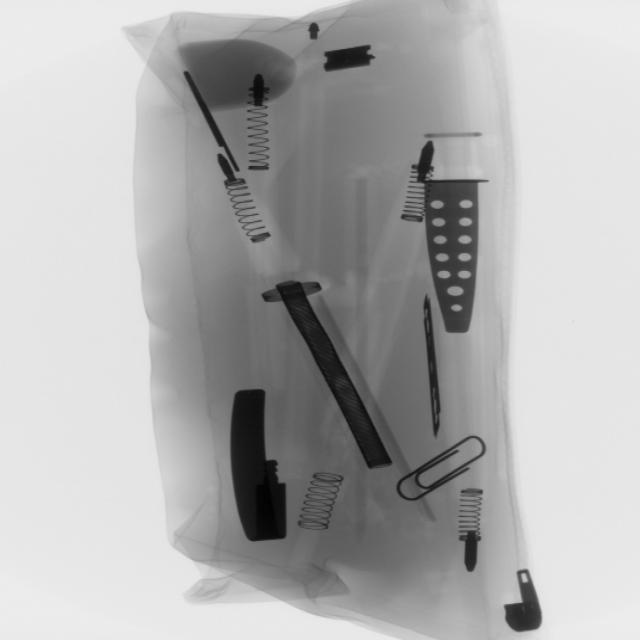SHURIKEN: (413, 291, 455, 442)
